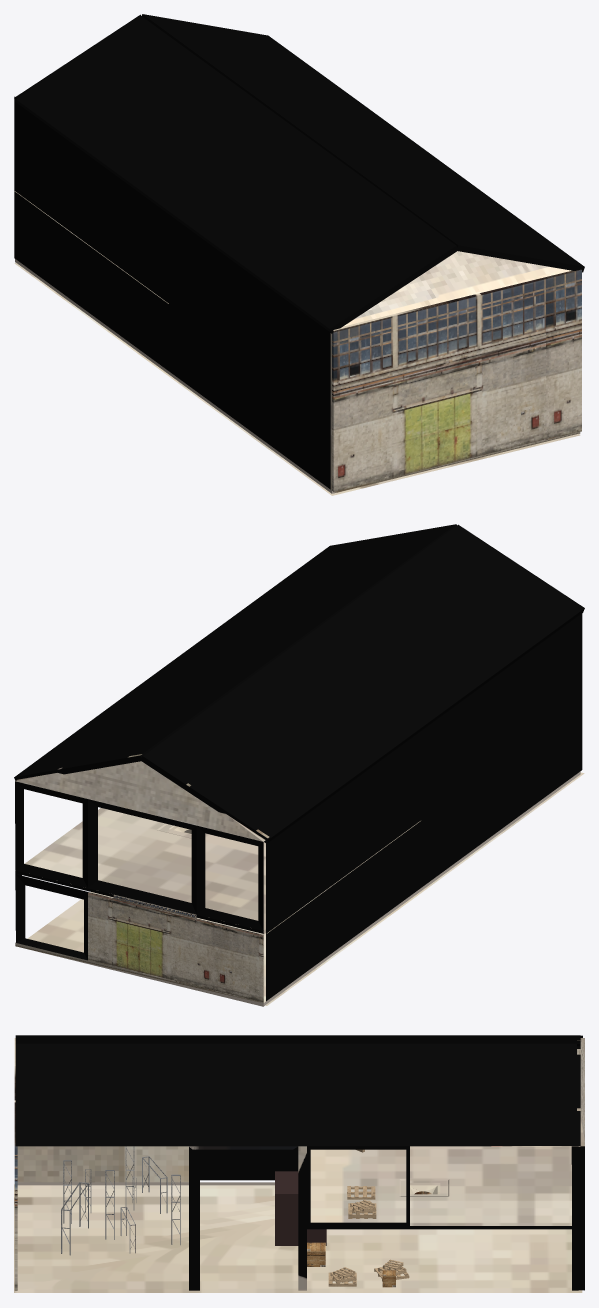
File: EXPORTWAREHOUSE.glb
3 views of the same model, one above another, from view 1: azimuth 30°, elevation 25°; view 2: azimuth 150°, elevation 25°; view 3: azimuth 270°, elevation 25° (orthographic). The views are drawn at different scales.
Parts seen in each view (by area): view 1: Cube.029, Cube.014; view 2: Cube.029, Cube.014; view 3: Cube.029, Cube.014, Cube.016, Cube.009, Cube.023, Object_2.011, Cube.008.
Part boxes in pixels (<box>): Cube.029: <box>14,14,584,493</box>; Cube.014: <box>14,191,580,495</box>; Cube.029: <box>14,524,584,1006</box>; Cube.014: <box>27,772,584,1005</box>; Cube.029: <box>14,1035,584,1290</box>; Cube.014: <box>14,1184,582,1292</box>; Cube.016: <box>275,1171,326,1245</box>; Cube.009: <box>61,1182,88,1255</box>; Cube.023: <box>307,1242,325,1266</box>; Object_2.011: <box>347,1186,375,1199</box>; Cube.008: <box>142,1156,167,1213</box>.
Size of the model in its own units: 20.35 by 16.92 by 44.12.
Materials: 14 (7 with a texture image).
